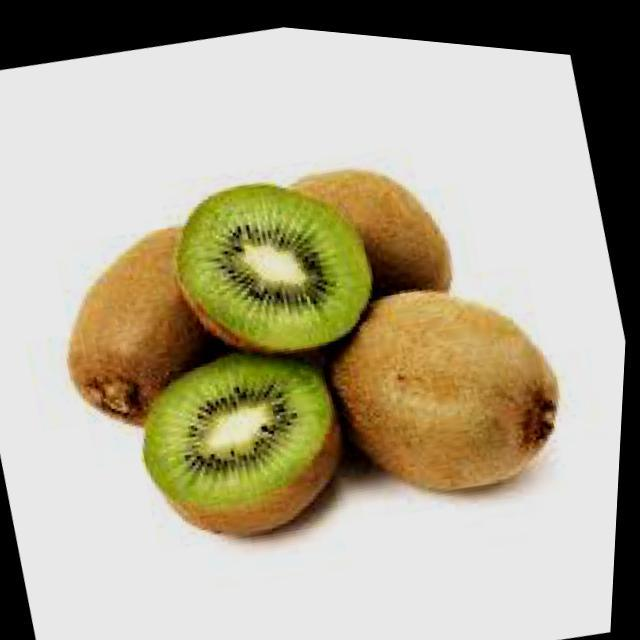kiwi: (307, 243, 589, 518), (36, 187, 314, 455), (259, 133, 469, 334)
